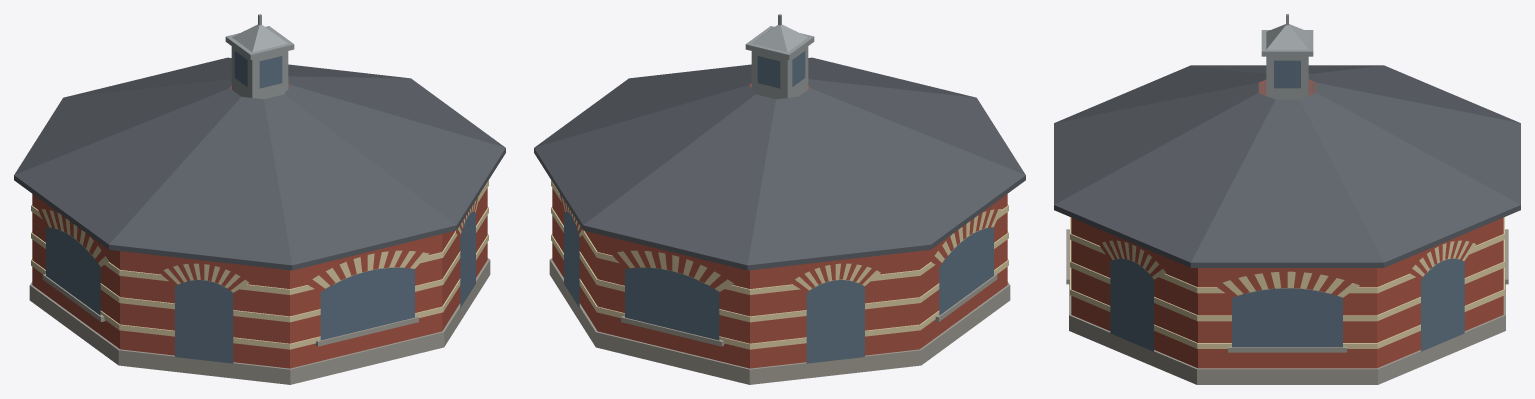
The model's file is nyc-chess-checkers-house.glb.
3 views of the same model, side by side, from view 1: azimuth 30°, elevation 25°; view 2: azimuth 150°, elevation 25°; view 3: azimuth 270°, elevation 25° (orthographic).
Visible parts, largest first — view 1: Chess & Checkers House; view 2: Chess & Checkers House; view 3: Chess & Checkers House.
Boxes of the visible parts, <box> form: Chess & Checkers House: <box>14,14,505,384</box>; Chess & Checkers House: <box>534,14,1025,384</box>; Chess & Checkers House: <box>1054,14,1520,384</box>.
Bounding box in the file's own units: 12.18 × 8 × 12.18.
